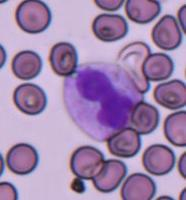N: (62, 62, 142, 140)
